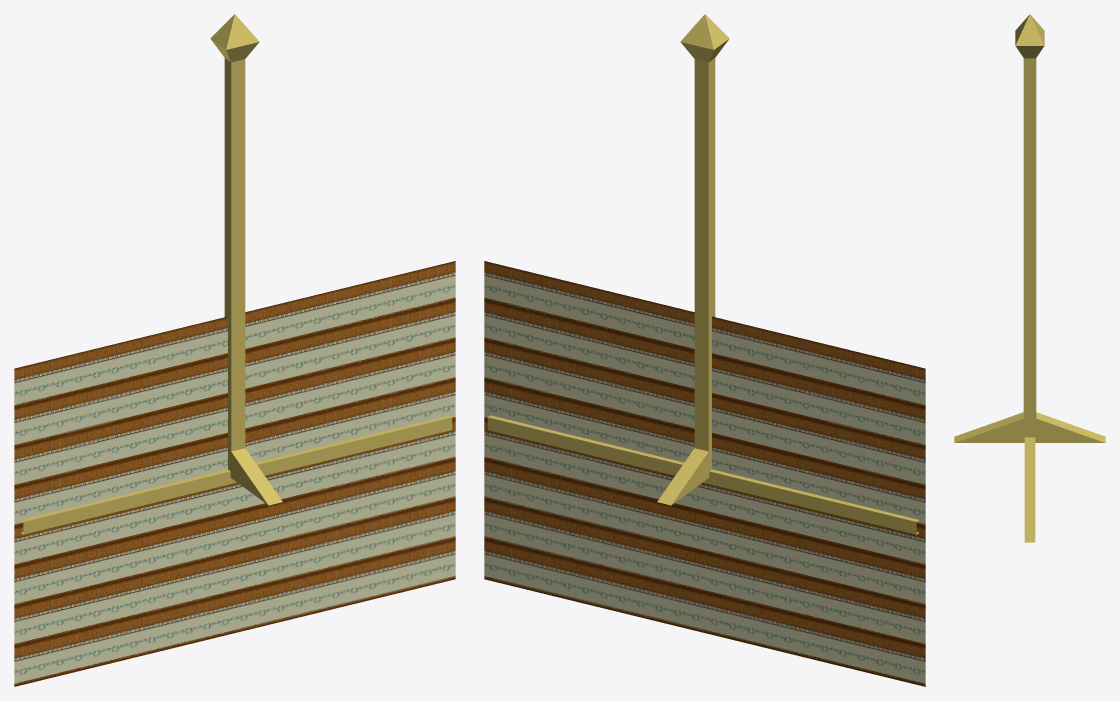
The model's file is 4468wall_r.gltf.
The picture shows the model from 3 angles, left to right: view 1: azimuth 30°, elevation 25°; view 2: azimuth 150°, elevation 25°; view 3: azimuth 270°, elevation 25°; orthographic projection. The views are drawn at different scales.
Parts seen in each view (by area): view 1: 4468wall_r; view 2: 4468wall_r; view 3: 4468wall_r.
Boxes of the visible parts, bbox=[...] form: 4468wall_r: bbox=[14, 14, 455, 686]; 4468wall_r: bbox=[484, 14, 925, 686]; 4468wall_r: bbox=[954, 14, 1105, 542].
Size of the model in its own units: 1.83 by 2.45 by 0.5869.
Materials: 2 (1 with a texture image).
